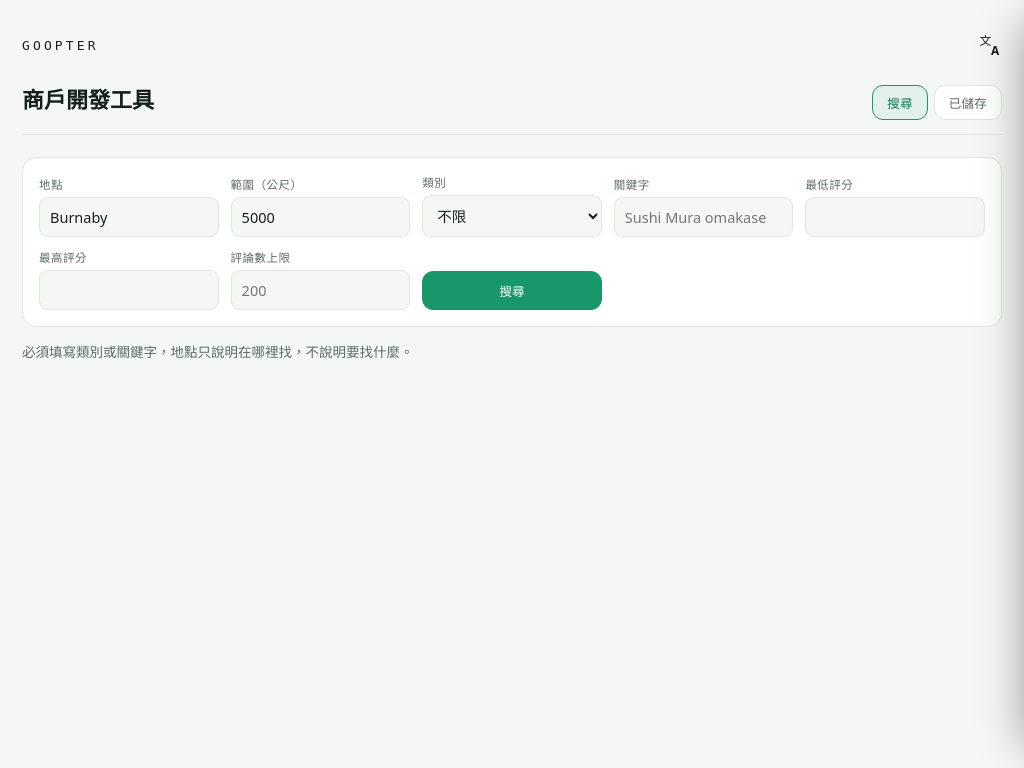
Scenario: zh-Hant › keeps a message in the language on screen when the language changes
This screenshot has width=1024, height=768.
Type "sushi" into the field labelled "關鍵字" at (704, 217), box [614,197,793,237]
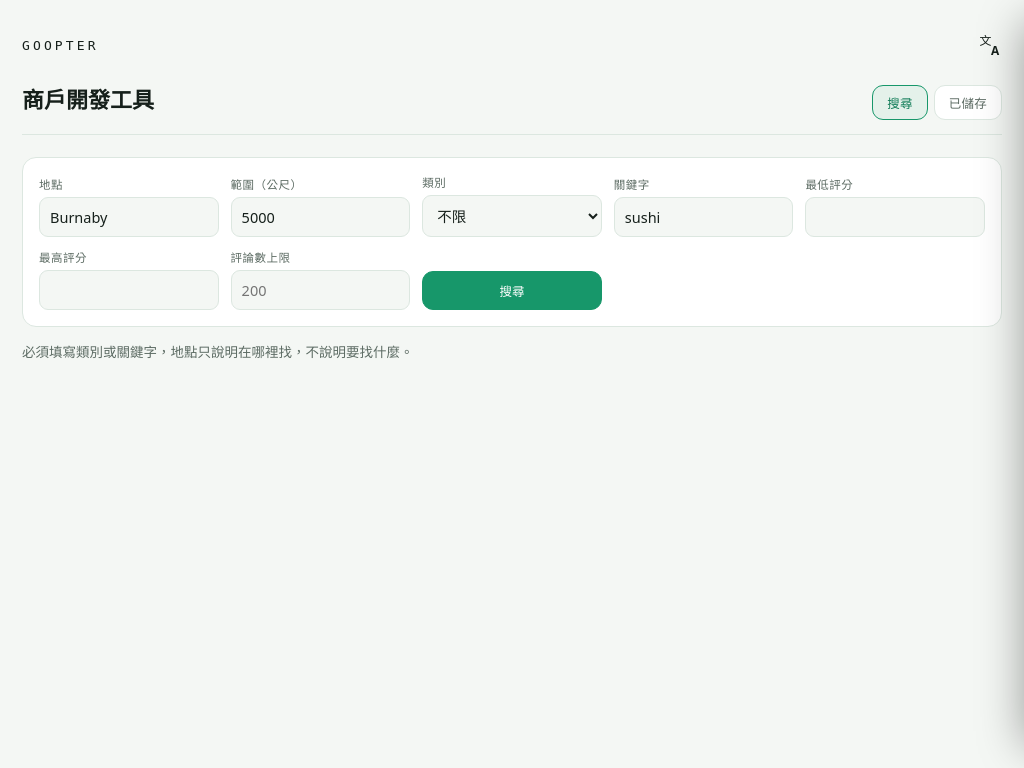
Click the button "搜尋" at (512, 290), box [422,271,602,310]
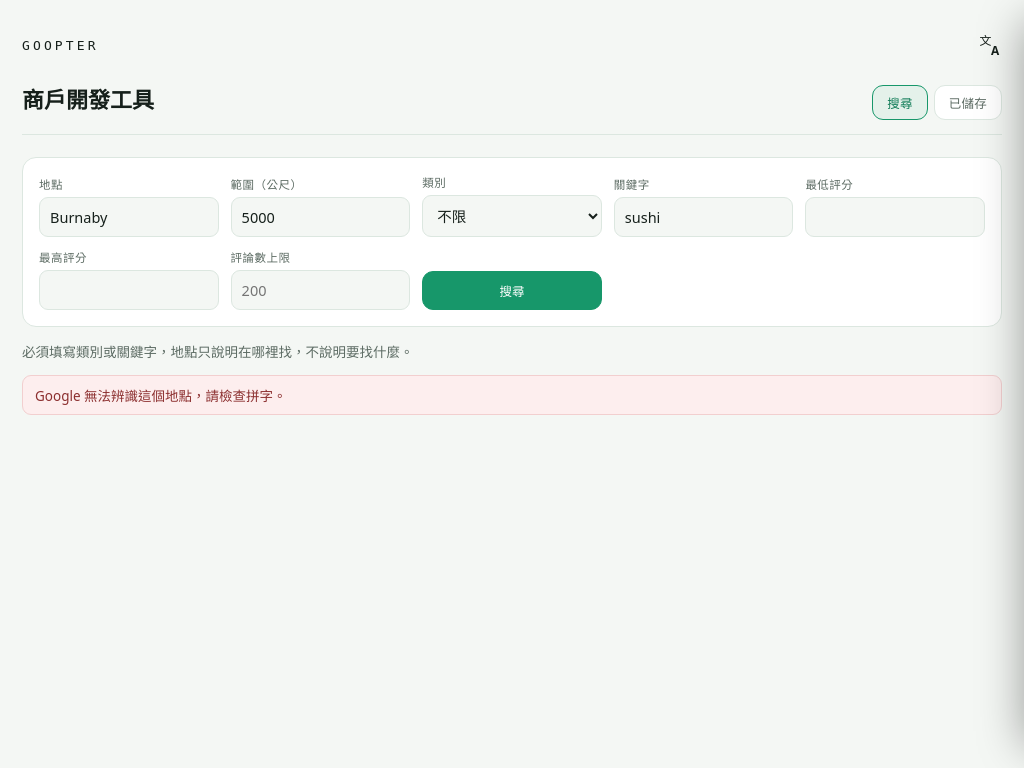
expect the text "Google 無法辨識這個地點，請檢查拼字。" is shown: met, box [22,375,1002,415]
Click the button with class "menu" at (990, 45), box [973,28,1007,62]
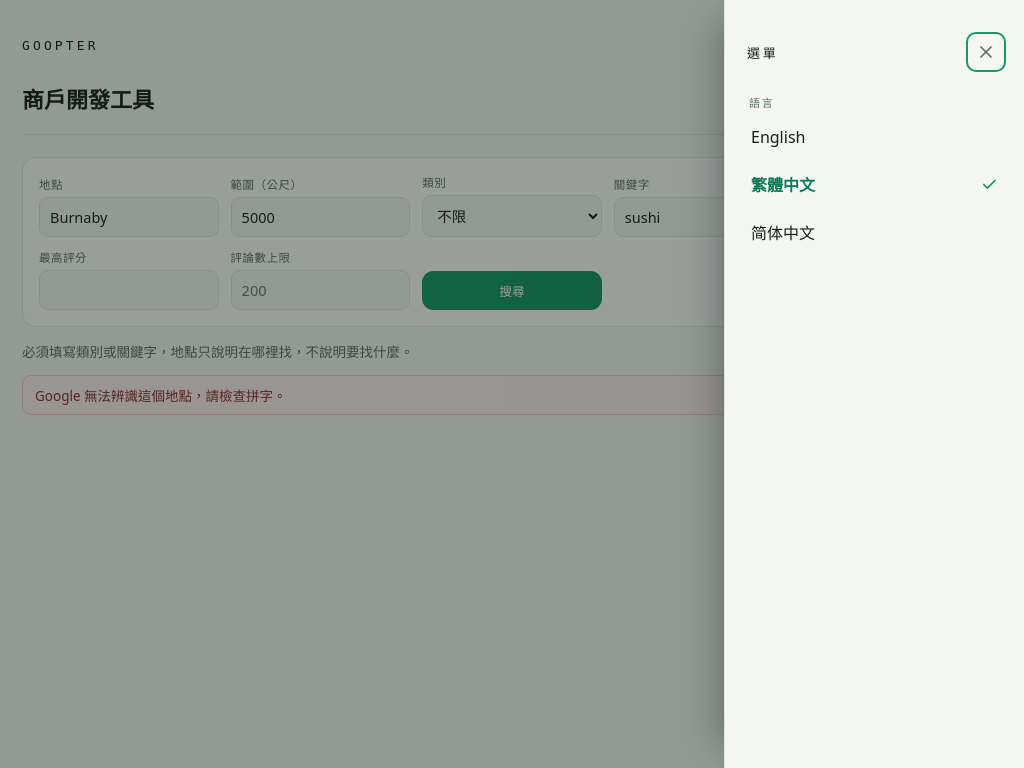
Click the menu item "English" at (778, 137), box [743,114,1006,160]
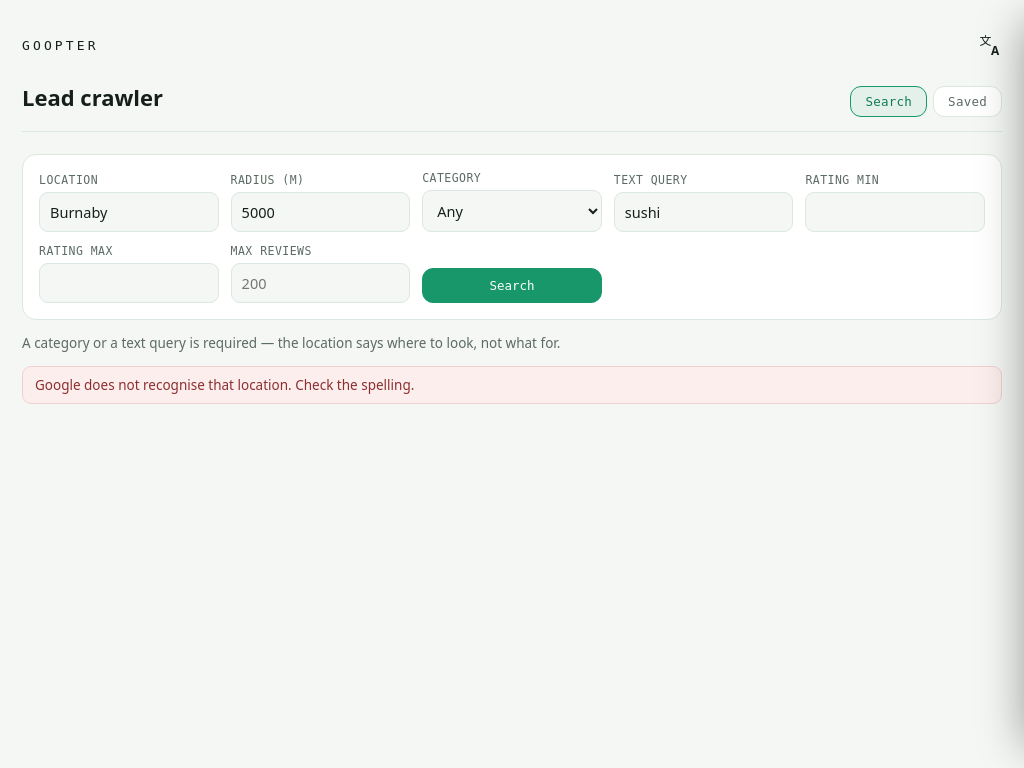
expect the text "Google does not recognise that location. Check the spelling." is shown: met, box [22,366,1002,404]
expect the text "Google 無法辨識這個地點，請檢查拼字。" is gone: met
